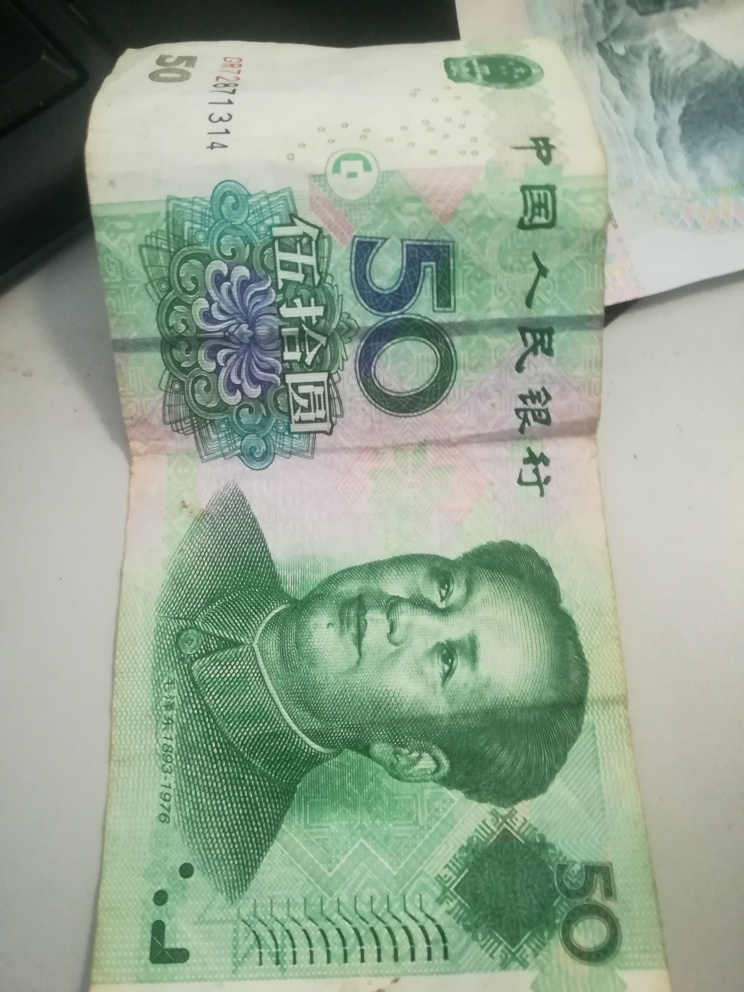rmb: (77, 36, 672, 992)
